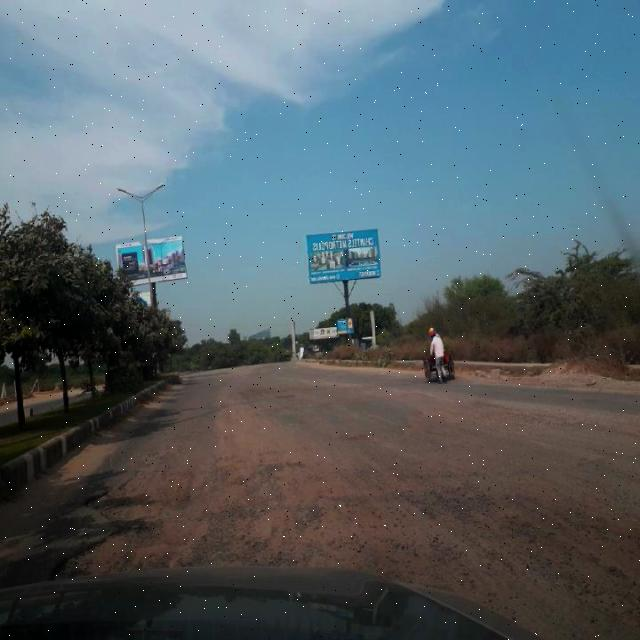D40: (48, 426, 351, 581)
